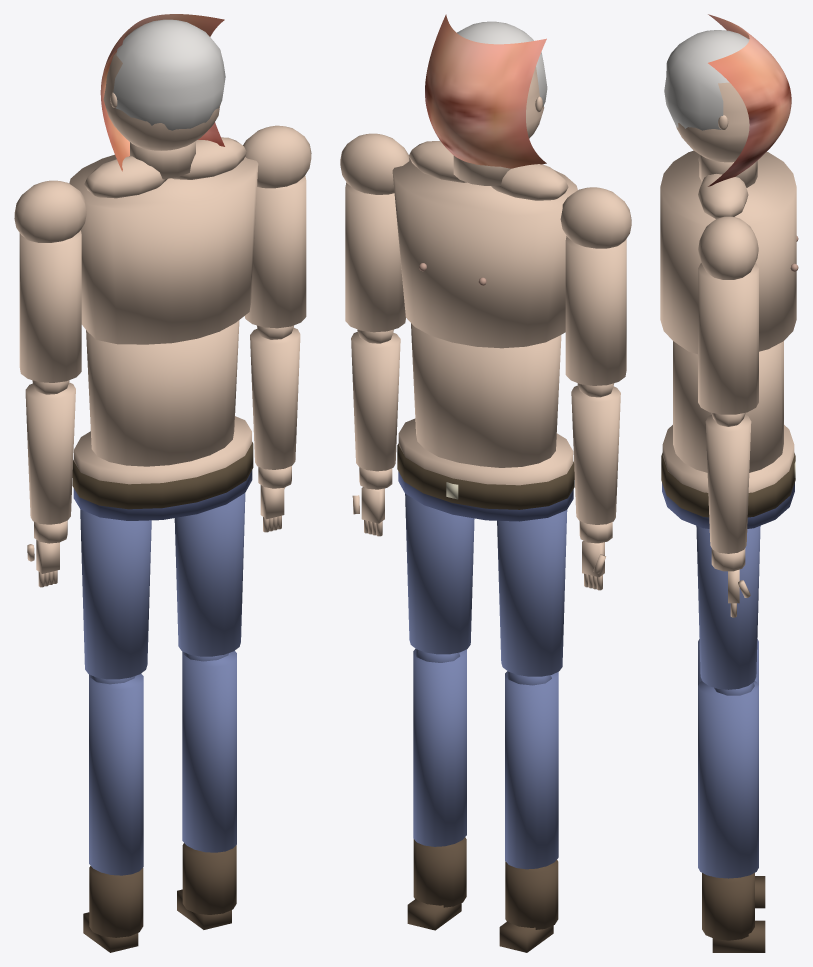
Rendered from friend.glb.
3 renders of one model, left to right at view 1: azimuth 30°, elevation 25°; view 2: azimuth 150°, elevation 25°; view 3: azimuth 270°, elevation 25°, orthographic. The views are drawn at different scales.
Visible parts, largest first — view 1: friend; view 2: friend; view 3: friend.
Boxes of the visible parts, <box> form: friend: <box>14,14,311,952</box>; friend: <box>340,14,631,952</box>; friend: <box>660,14,798,952</box>.
Size of the model in its own units: 0.6204 by 1.86 by 0.2622.
Materials: 9 (1 with a texture image).
